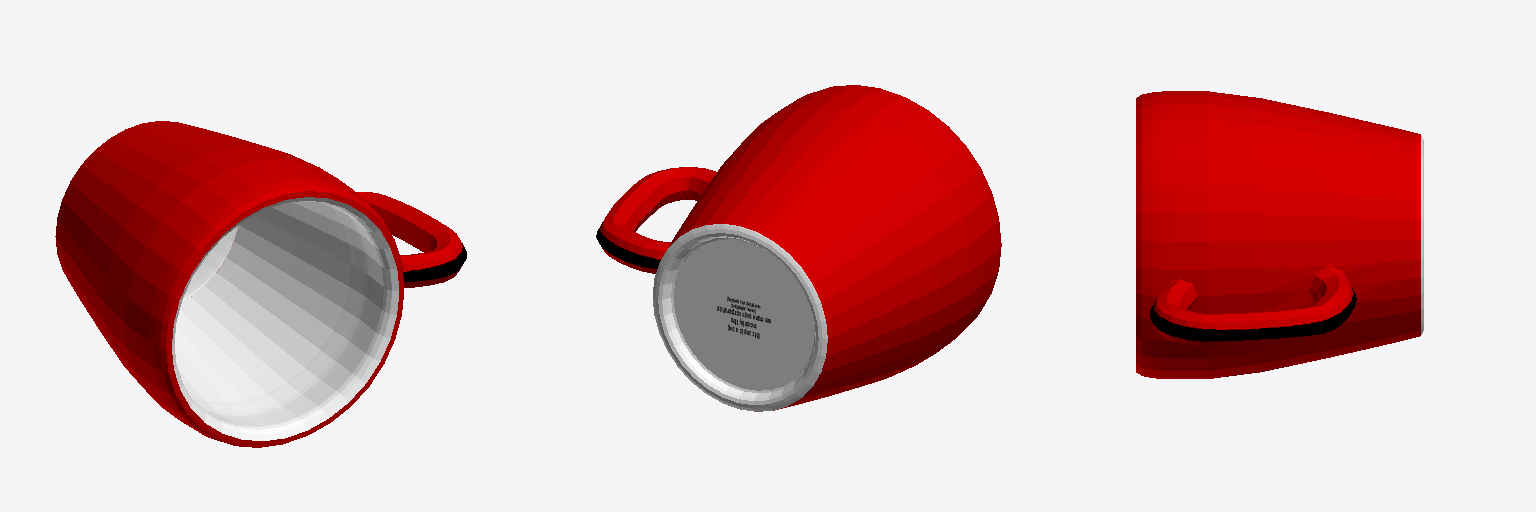
3 views of the same model, side by side, from view 1: azimuth 30°, elevation 25°; view 2: azimuth 150°, elevation 25°; view 3: azimuth 270°, elevation 25° (orthographic).
Size of the model in its own units: 1 by 0.7463 by 0.7452.
1 materials, 1 textured.